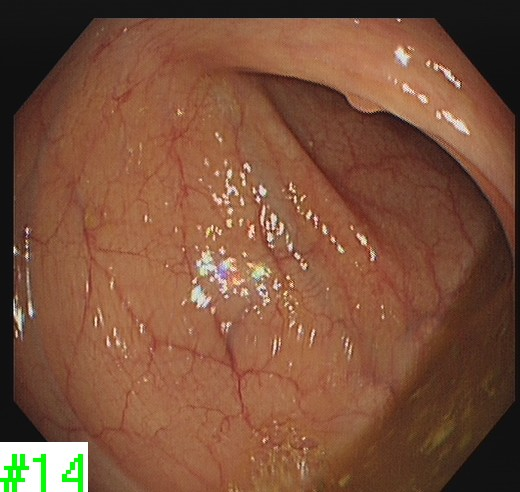adenoma: (341, 89, 386, 115)
